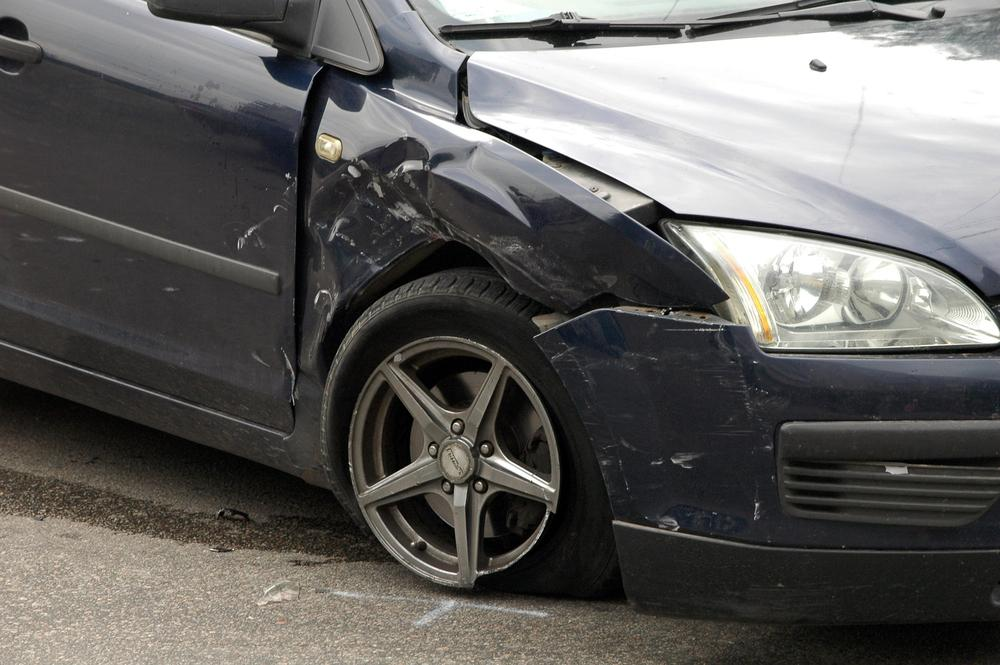dent: (308, 133, 538, 336)
scratch: (550, 338, 774, 469)
tire flat: (326, 267, 620, 591)
